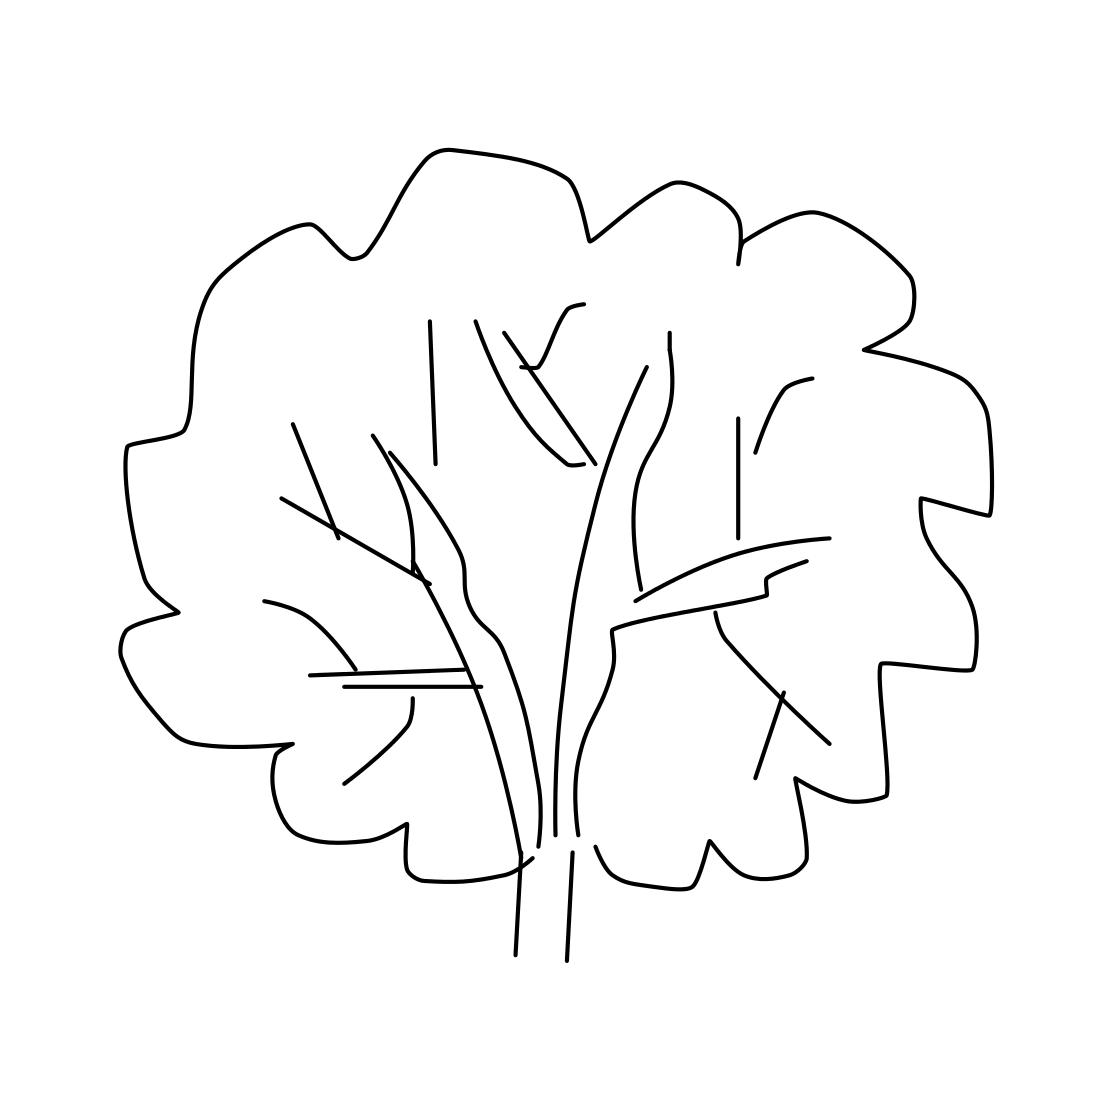Tree: (87, 115, 1015, 970)
